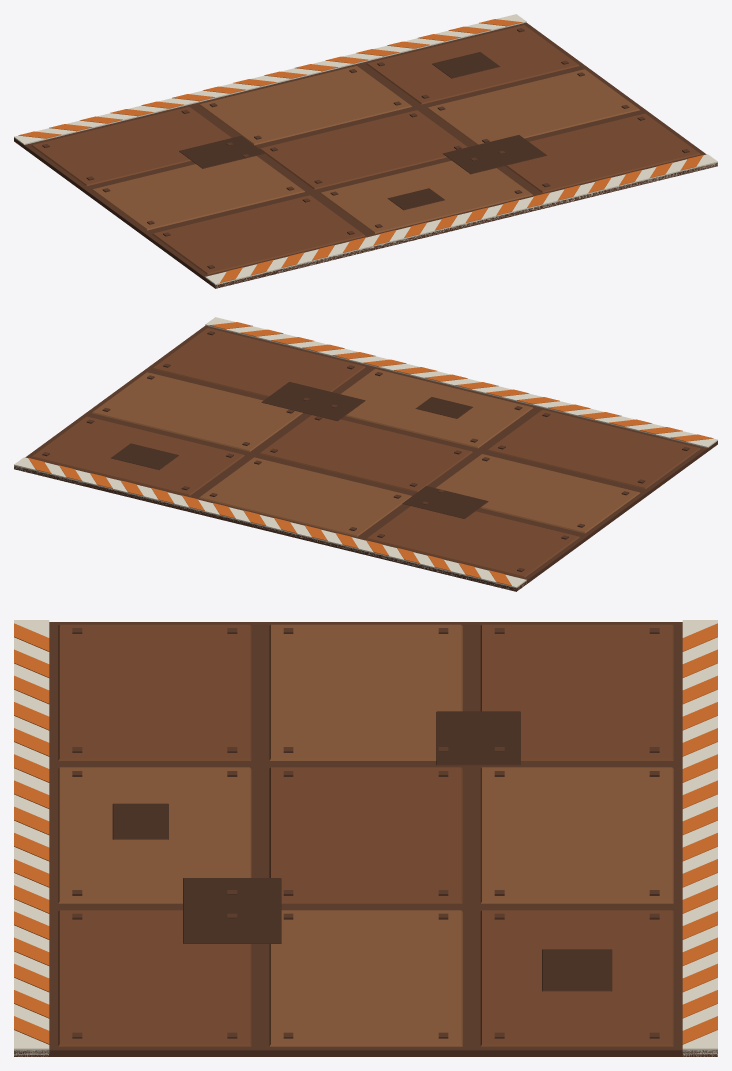
Rendered from miniarena_floor_tile.glb.
3 renders of one model, top to bottom at view 1: azimuth 30°, elevation 25°; view 2: azimuth 150°, elevation 25°; view 3: azimuth 270°, elevation 25°, orthographic. The views are drawn at different scales.
Parts seen in each view (by area): view 1: miniarena_floor_tile; view 2: miniarena_floor_tile; view 3: miniarena_floor_tile.
Part boxes in pixels (x1,y1,x2,y2): miniarena_floor_tile: (14,14,717,288); miniarena_floor_tile: (14,317,717,591); miniarena_floor_tile: (14,620,717,1056).
Bounding box in the file's own units: 14.4 × 0.16 × 10.
Materials: 1 (1 with a texture image).
